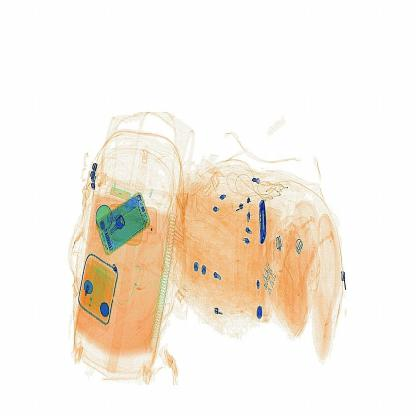knife: (254, 193, 279, 250)
